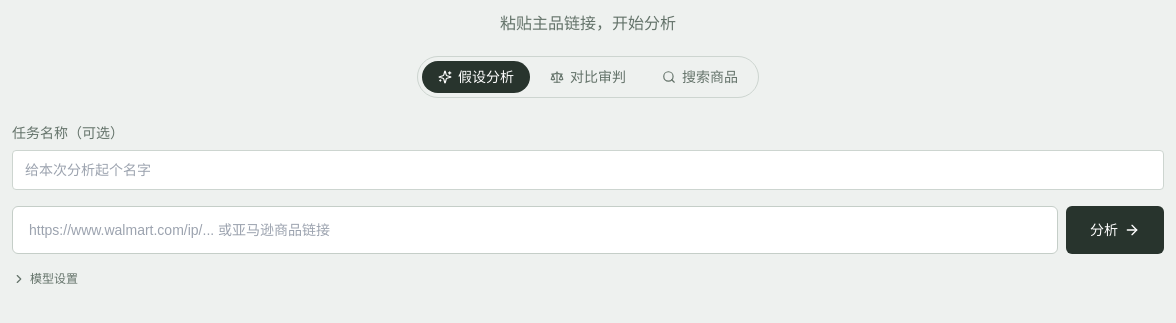
Test: rejects lookalike URLs
Type "https://walmart.com.evil.example/ip/123" into the field named "主品商品链接" at coordinates (535, 230), box [12,206,1058,254]
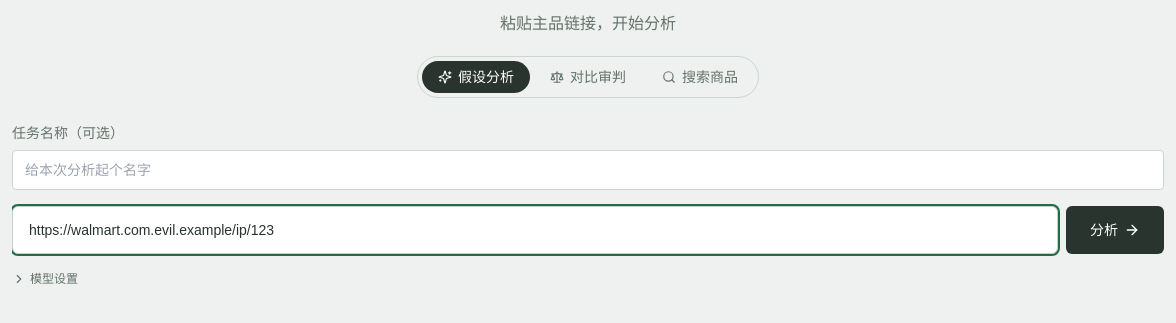
Click the button "分析" at coordinates (1115, 230), box [1066,206,1164,254]
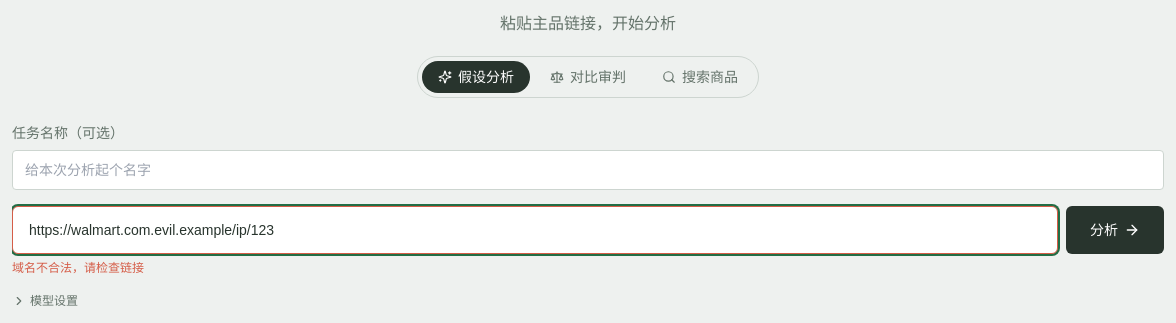
Now the text "域名不合法，请检查链接" is shown, box [12,261,144,275]
